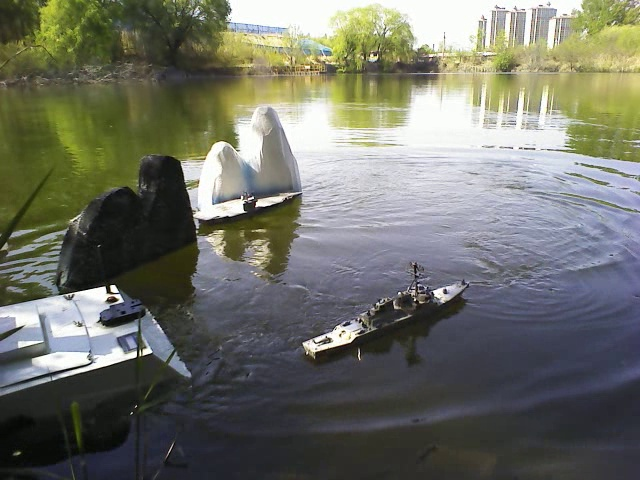aircraft_carrier: (191, 188, 309, 223)
boat: (8, 280, 207, 424)
iceberg: (192, 94, 311, 193)
rock: (52, 149, 203, 280)
submarine: (300, 255, 481, 377)
